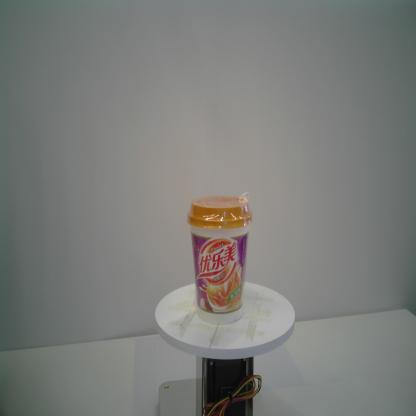Instant Drink: (186, 196, 252, 326)
